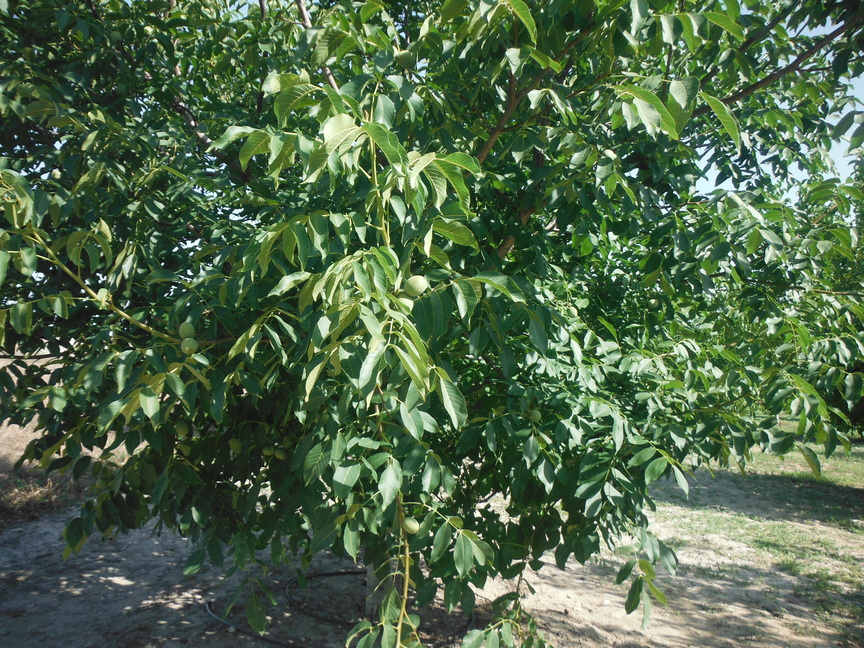walnut: (401, 270, 429, 300), (394, 289, 417, 317), (396, 47, 421, 70), (179, 335, 199, 360), (400, 514, 422, 536), (177, 318, 197, 342), (172, 418, 192, 439), (108, 27, 125, 47), (386, 41, 400, 65), (93, 475, 110, 494), (525, 407, 542, 424), (113, 80, 129, 98), (273, 447, 293, 461), (599, 147, 615, 164), (260, 442, 276, 458), (154, 282, 168, 298), (645, 296, 661, 310), (165, 321, 178, 338), (566, 304, 579, 320), (781, 40, 796, 53), (611, 152, 622, 169), (225, 36, 239, 49), (767, 47, 782, 59), (671, 46, 684, 59)
